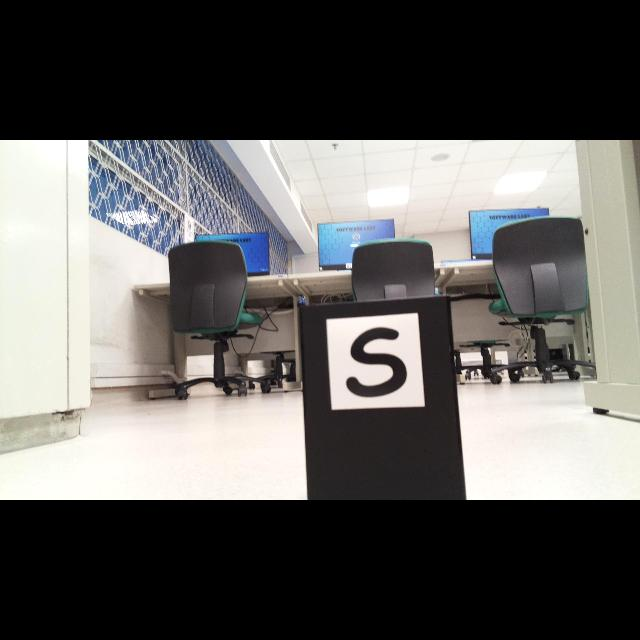S: (345, 328, 407, 398)
